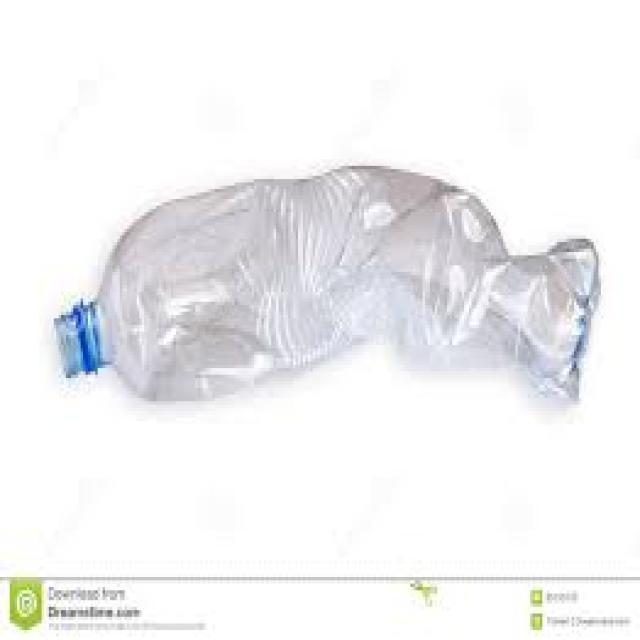defected: (48, 164, 601, 430)
